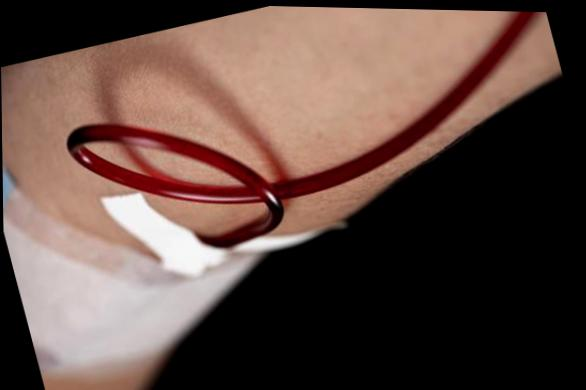Fire: (64, 9, 535, 247)
